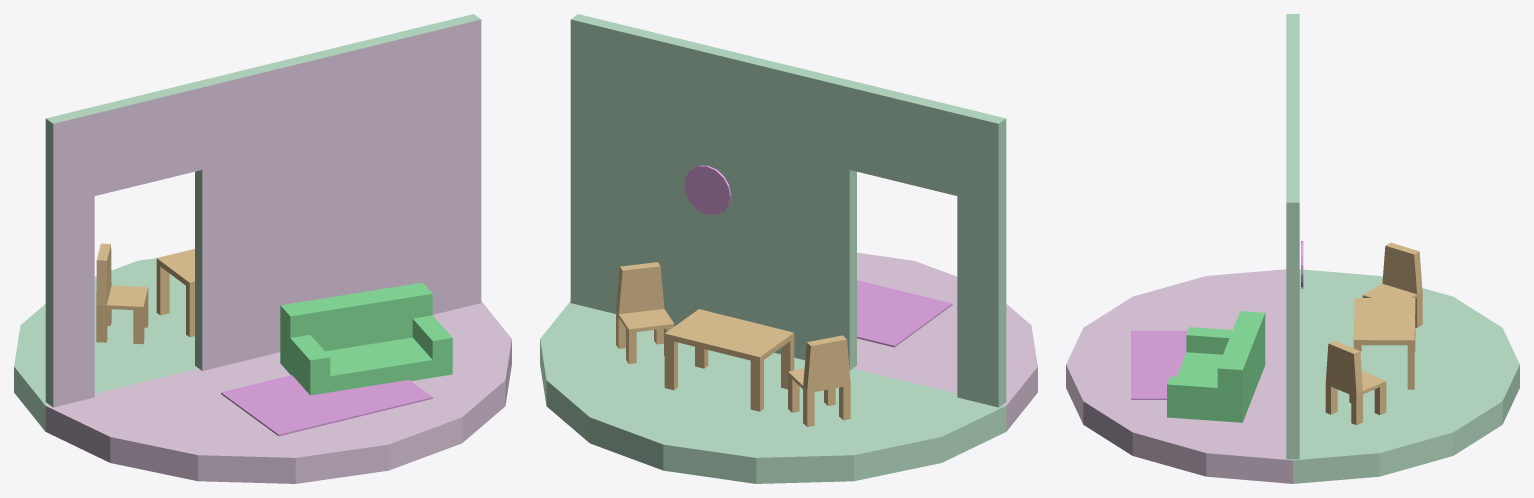
File: appart.glb
The picture shows the model from 3 angles, left to right: view 1: azimuth 30°, elevation 25°; view 2: azimuth 150°, elevation 25°; view 3: azimuth 270°, elevation 25°; orthographic projection. The views are drawn at different scales.
Parts seen in each view (by area): view 1: Cylinder, Cube.003, Cube.004, Cube.001, Cube.002; view 2: Cylinder, Cube.002, Cube.004, Cube, Cube.001, Cylinder.001; view 3: Cylinder, Cube.003, Cube.002, Cube.004, Cube, Cube.001.
Part boxes in pixels (<box>): Cylinder: <box>14,14,511,483</box>; Cube.003: <box>280,282,452,395</box>; Cube.004: <box>221,375,432,436</box>; Cube.001: <box>96,243,148,344</box>; Cube.002: <box>156,249,194,337</box>; Cylinder: <box>540,14,1037,483</box>; Cube.002: <box>664,309,794,411</box>; Cube.004: <box>857,280,952,347</box>; Cube: <box>616,262,674,363</box>; Cube.001: <box>788,335,850,426</box>; Cylinder.001: <box>684,165,731,214</box>; Cylinder: <box>1066,14,1519,483</box>; Cube.003: <box>1167,311,1265,422</box>; Cube.002: <box>1353,298,1415,389</box>; Cube.004: <box>1131,330,1187,399</box>; Cube: <box>1325,340,1386,425</box>; Cube.001: <box>1362,242,1422,327</box>.
Size of the model in its own units: 6.46 by 4.4 by 6.46.
